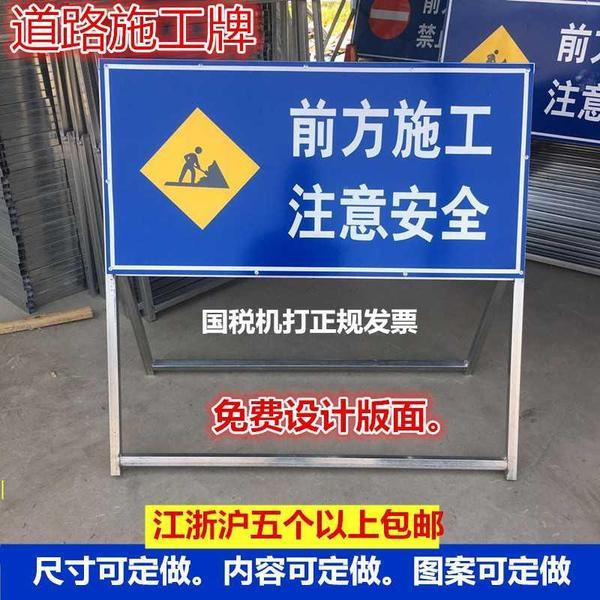sign: (104, 61, 523, 277)
